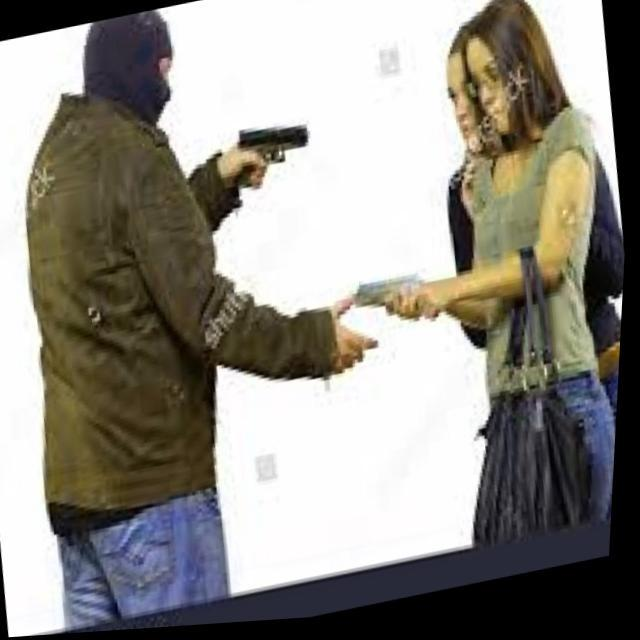weapon: (225, 112, 322, 202)
